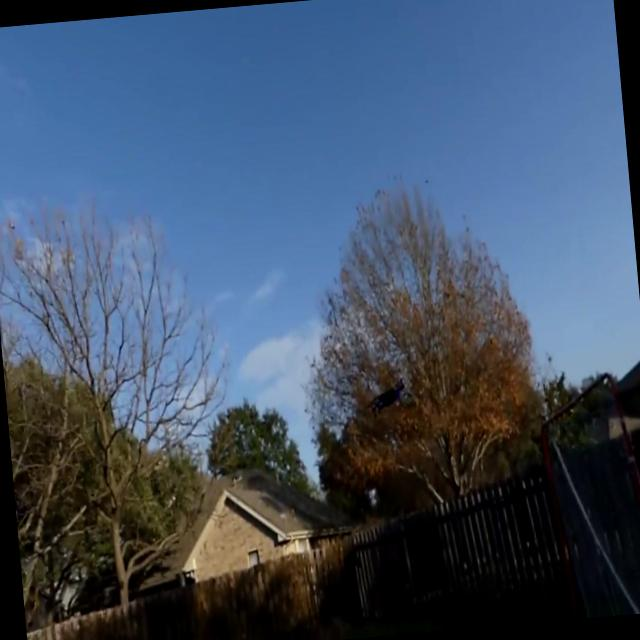drone: (362, 375, 410, 418)
